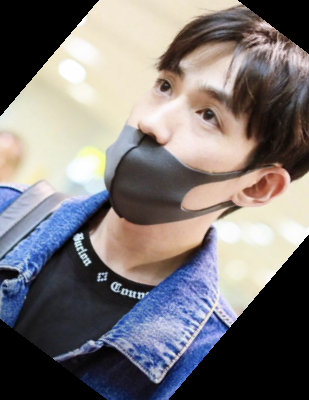mask_weared_incorrect: (98, 5, 309, 230)
